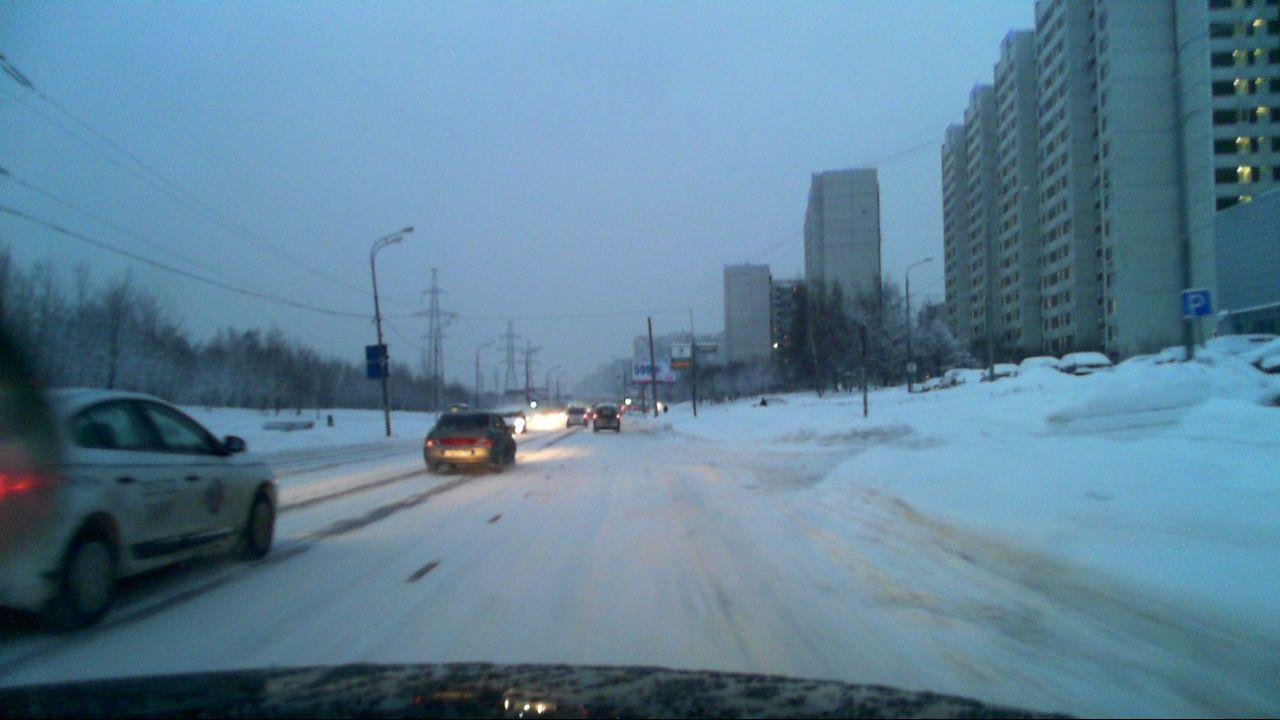6_4: (1181, 286, 1212, 321)
